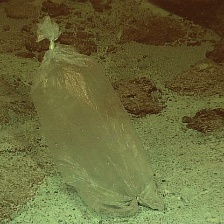plastic_bag: (21, 13, 170, 220)
